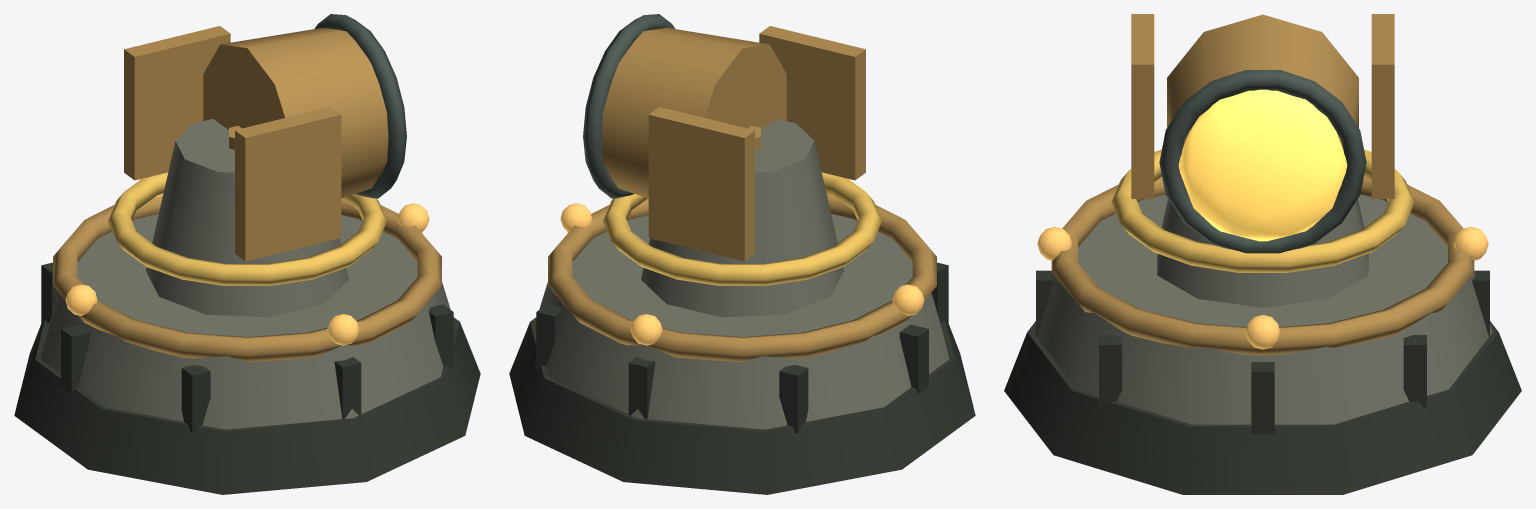
File: tower_laser_laserPrism_ultimate.glb
3 renders of one model, left to right at view 1: azimuth 30°, elevation 25°; view 2: azimuth 150°, elevation 25°; view 3: azimuth 270°, elevation 25°, orthographic. The views are drawn at different scales.
Parts seen in each view (by area): view 1: stone_1, foot_0, lens_housing_17, column_15, cooling_fin_20, rim_2, cooling_fin_21, energized_base_22, focus_ring_18, mortar_6, mortar_7, mortar_5 (+5 smaller); view 2: stone_1, foot_0, lens_housing_17, column_15, cooling_fin_21, rim_2, cooling_fin_20, energized_base_22, focus_ring_18, mortar_8, mortar_7, mortar_9 (+5 smaller); view 3: stone_1, foot_0, lens_glass_19, rim_2, focus_ring_18, lens_housing_17, energized_base_22, column_15, cooling_fin_20, cooling_fin_21, mortar_3, mortar_4 (+6 smaller).
Part boxes in pixels (left/top/right/bottom): stone_1: left=40, top=213, right=454, bottom=429; foot_0: left=14, top=317, right=480, bottom=494; lens_housing_17: left=203, top=28, right=388, bottom=198; column_15: left=146, top=119, right=348, bottom=317; cooling_fin_20: left=235, top=107, right=341, bottom=261; rim_2: left=53, top=196, right=441, bottom=362; cooling_fin_21: left=124, top=26, right=230, bottom=180; energized_base_22: left=108, top=172, right=386, bottom=285; focus_ring_18: left=314, top=14, right=406, bottom=198; mortar_6: left=181, top=365, right=210, bottom=433; mortar_7: left=61, top=324, right=90, bottom=394; mortar_5: left=334, top=357, right=361, bottom=419; stone_1: left=535, top=213, right=949, bottom=429; foot_0: left=509, top=317, right=975, bottom=494; lens_housing_17: left=601, top=28, right=786, bottom=198; column_15: left=641, top=119, right=843, bottom=317; cooling_fin_21: left=648, top=107, right=754, bottom=261; rim_2: left=548, top=196, right=936, bottom=362; cooling_fin_20: left=759, top=26, right=865, bottom=180; energized_base_22: left=603, top=172, right=881, bottom=285; focus_ring_18: left=583, top=14, right=675, bottom=198; mortar_8: left=779, top=365, right=808, bottom=433; mortar_7: left=899, top=324, right=928, bottom=394; mortar_9: left=628, top=357, right=655, bottom=419; stone_1: left=1033, top=194, right=1492, bottom=424; foot_0: left=1004, top=321, right=1521, bottom=494; lens_glass_19: left=1178, top=89, right=1347, bottom=241; rim_2: left=1051, top=176, right=1474, bottom=355; focus_ring_18: left=1159, top=70, right=1366, bottom=253; lens_housing_17: left=1167, top=14, right=1358, bottom=188; energized_base_22: left=1111, top=149, right=1414, bottom=272; column_15: left=1157, top=199, right=1368, bottom=307; cooling_fin_20: left=1131, top=14, right=1154, bottom=198; cooling_fin_21: left=1371, top=14, right=1394, bottom=198; mortar_3: left=1251, top=362, right=1274, bottom=434; mortar_4: left=1099, top=335, right=1122, bottom=407.
Bounding box in the file's own units: 0.5326 × 0.4503 × 0.56.
